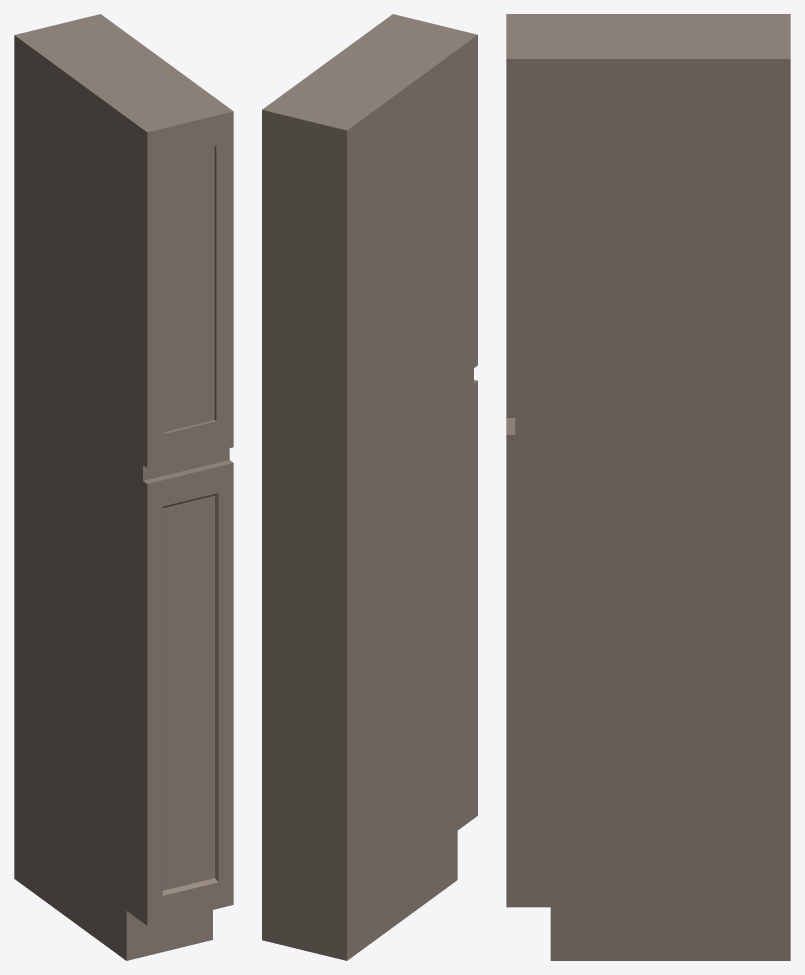
Rendered from Utility-Cabinet-24-Deep_std_001_W9in_1D.glb.
3 renders of one model, left to right at view 1: azimuth 30°, elevation 25°; view 2: azimuth 150°, elevation 25°; view 3: azimuth 270°, elevation 25°, orthographic. The views are drawn at different scales.
Visible parts, largest first — view 1: Utility-Cabinet-24-Deep.std.001_W9in_1D; view 2: Utility-Cabinet-24-Deep.std.001_W9in_1D; view 3: Utility-Cabinet-24-Deep.std.001_W9in_1D.
Boxes of the visible parts, <box> form: Utility-Cabinet-24-Deep.std.001_W9in_1D: <box>14,14,233,960</box>; Utility-Cabinet-24-Deep.std.001_W9in_1D: <box>262,14,477,960</box>; Utility-Cabinet-24-Deep.std.001_W9in_1D: <box>506,14,790,960</box>.
Size of the model in its own units: 0.2286 by 2.13 by 0.6096.
